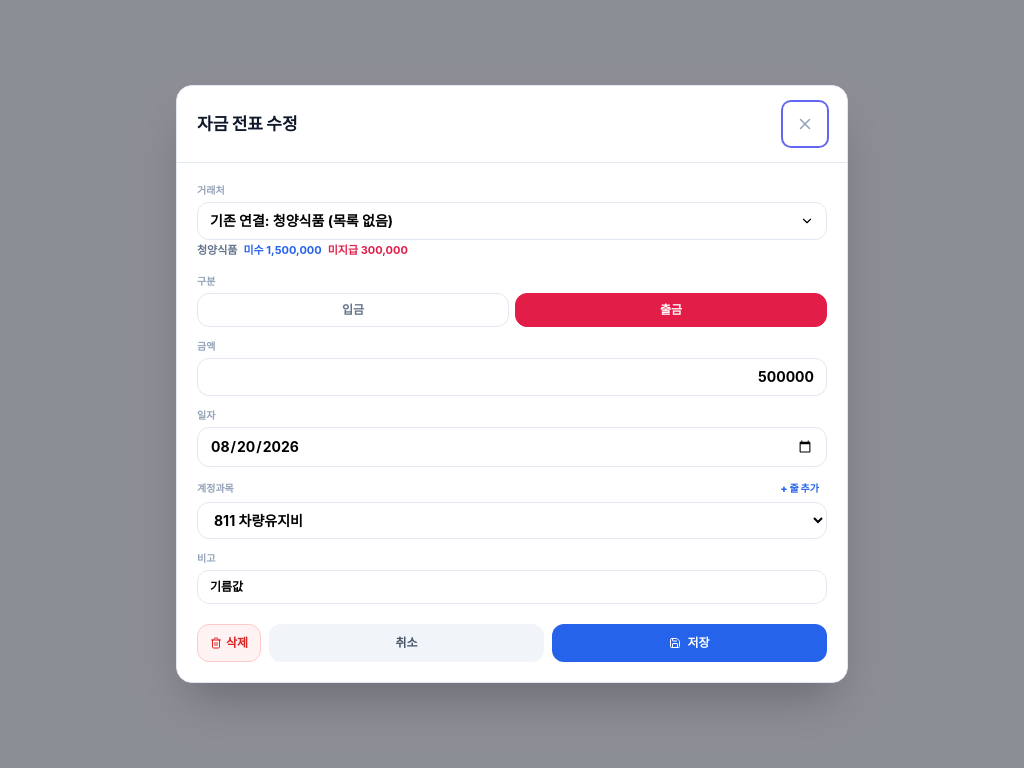
Test: 자금 전표 수정 — 이미 난 것을 고친다 › 금액이 0이면 저장 단추가 안 눌린다
Clear the field below "금액" at (512, 377), box 197,358 -> 827,396
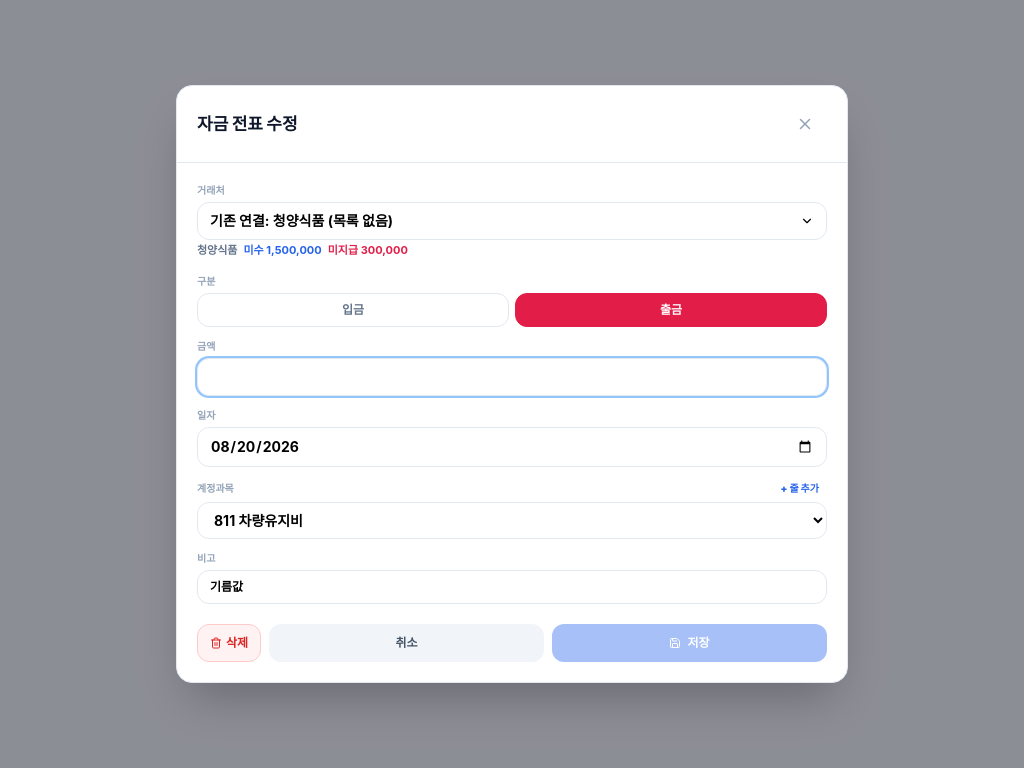
Result: the button "저장" is disabled at 552,624 -> 827,662
